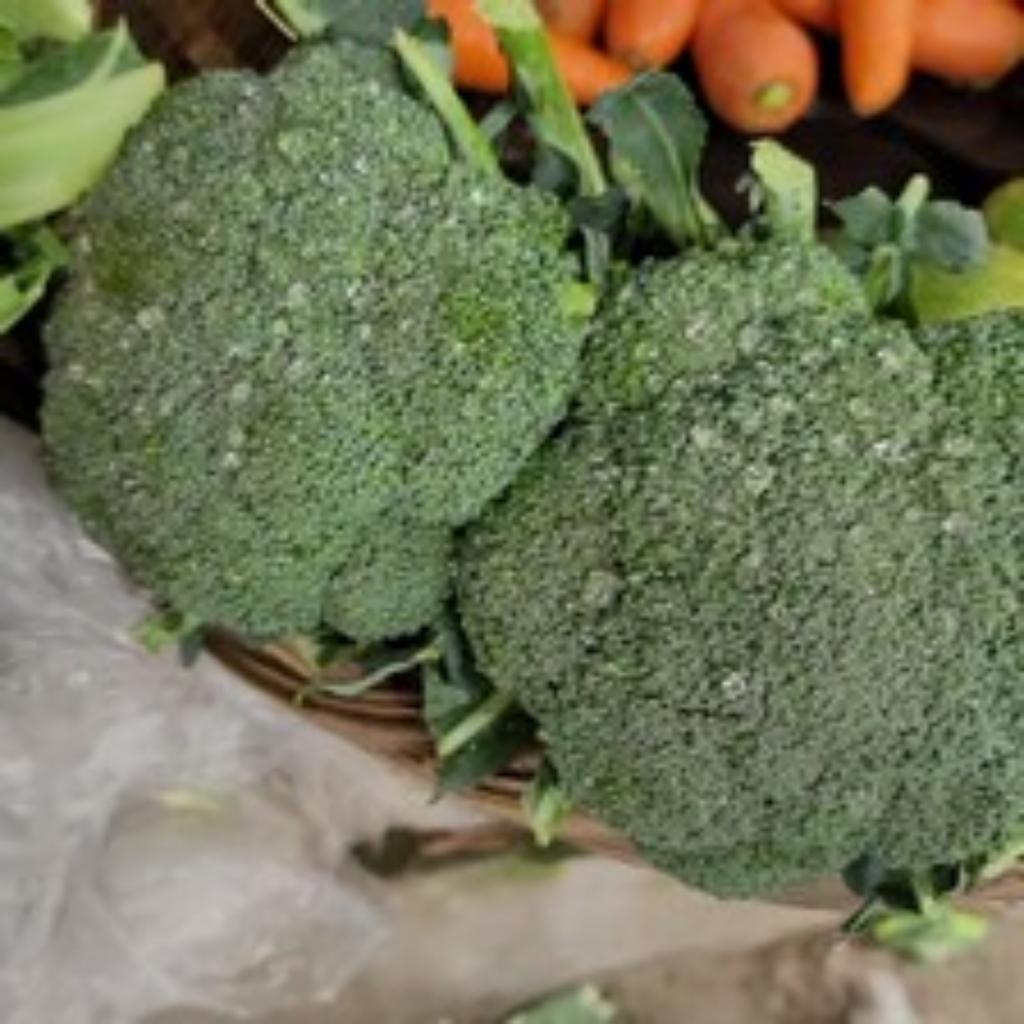Broccoli: (460, 244, 1024, 891), (460, 244, 1024, 889), (44, 42, 586, 637), (44, 44, 584, 637)
